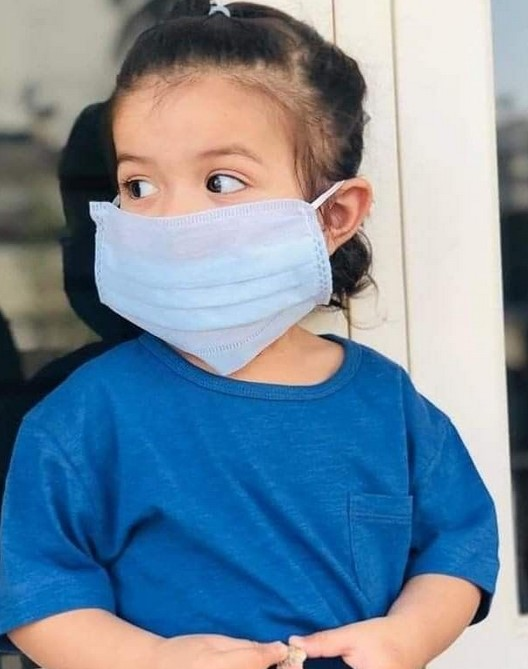face_with_mask: (91, 0, 345, 377)
